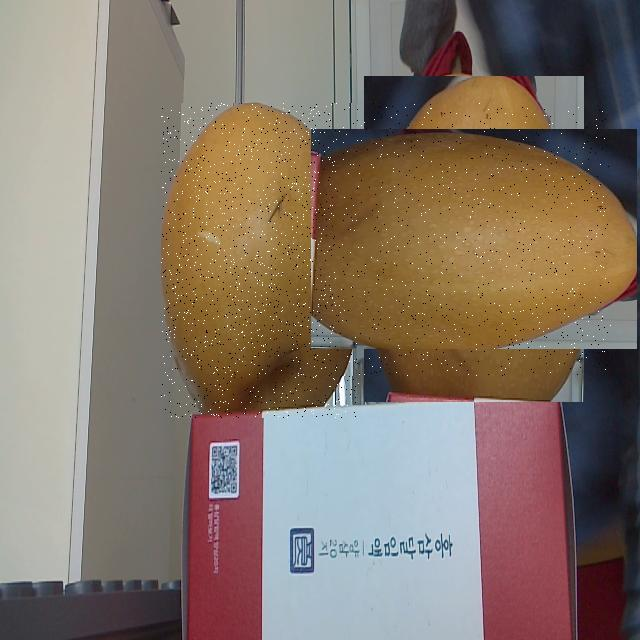pear: (337, 103, 611, 376), (162, 103, 360, 418)
